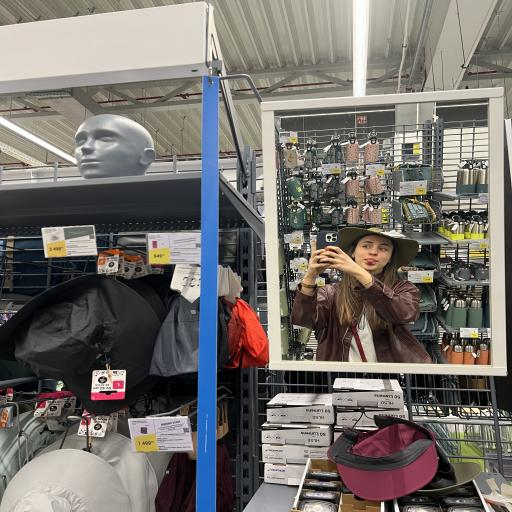masa: (357, 234, 390, 268)
